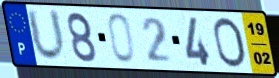0: (105, 11, 139, 66)
2: (141, 16, 173, 64)
4: (183, 15, 213, 69)
8: (66, 10, 98, 64)
O: (212, 16, 249, 70)
U: (24, 7, 68, 64)
